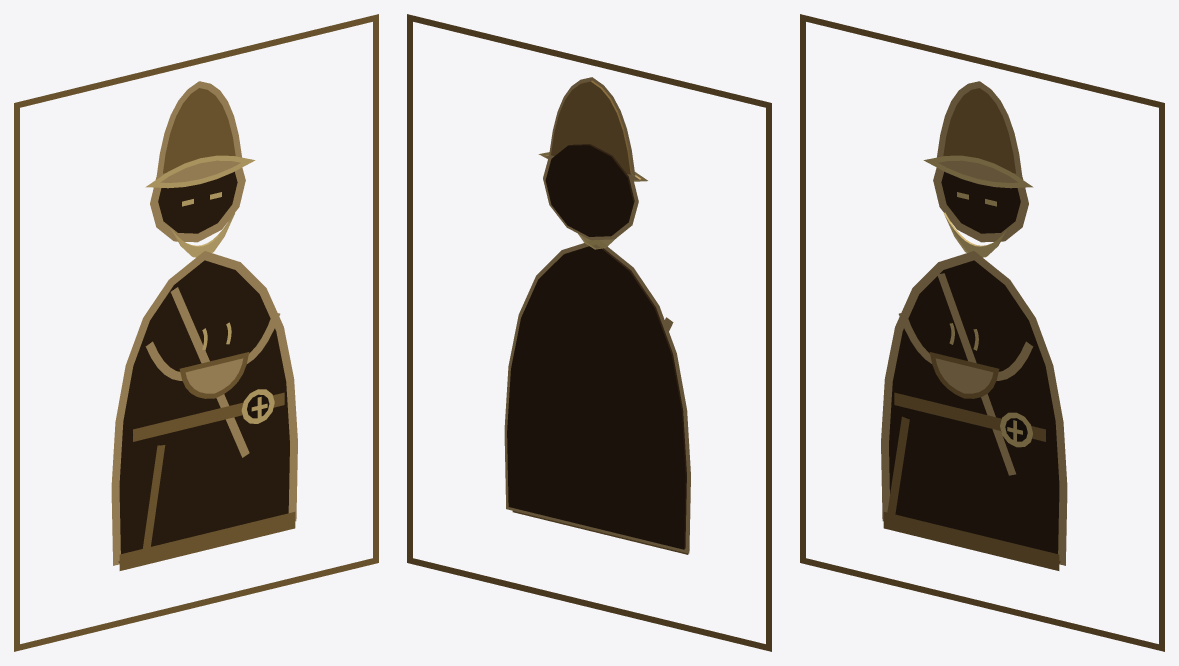
File: npc-bek-kochevnikov.glb
The picture shows the model from 3 angles, left to right: view 1: azimuth 30°, elevation 25°; view 2: azimuth 150°, elevation 25°; view 3: azimuth 330°, elevation 25°; orthographic projection.
Parts seen in each view (by area): view 1: npc-bek-kochevnikov; view 2: npc-bek-kochevnikov; view 3: npc-bek-kochevnikov.
Part boxes in pixels (x1,y1,x2,y2): npc-bek-kochevnikov: (14,14,378,651); npc-bek-kochevnikov: (407,14,771,651); npc-bek-kochevnikov: (800,14,1164,651).
Size of the model in its own units: 1.14 by 1.64 by 0.1129.
